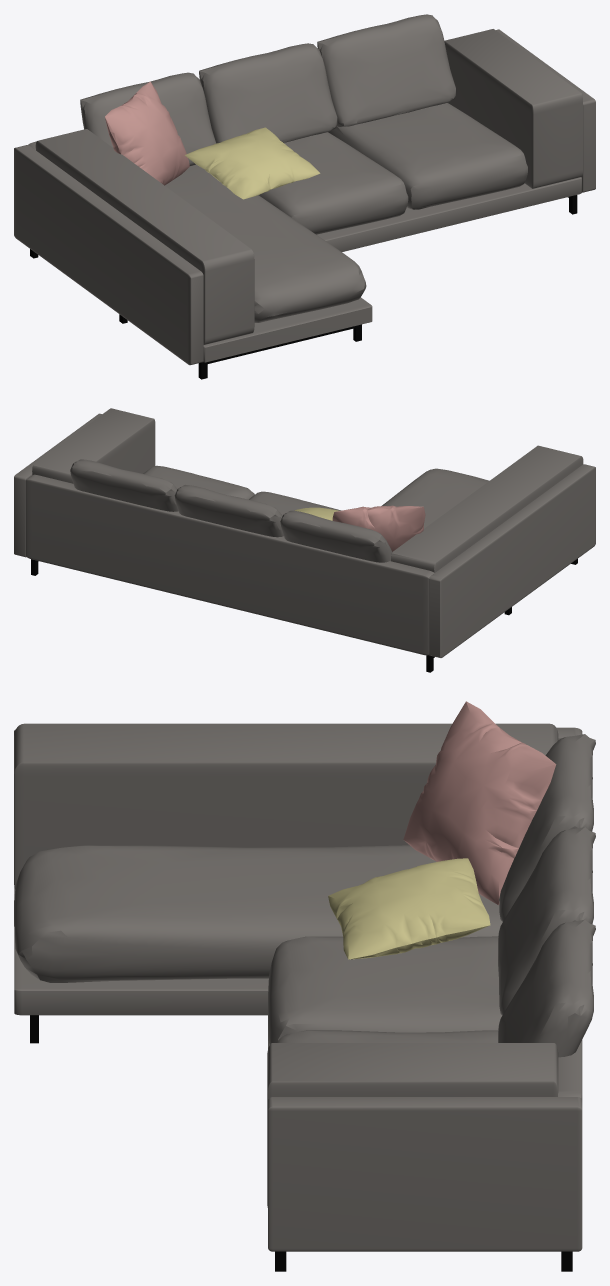
Rendered from sofa.glb.
3 views of the same model, one above another, from view 1: azimuth 30°, elevation 25°; view 2: azimuth 150°, elevation 25°; view 3: azimuth 270°, elevation 25° (orthographic). The views are drawn at different scales.
Size of the model in its own units: 2.77 by 0.8421 by 1.79.
